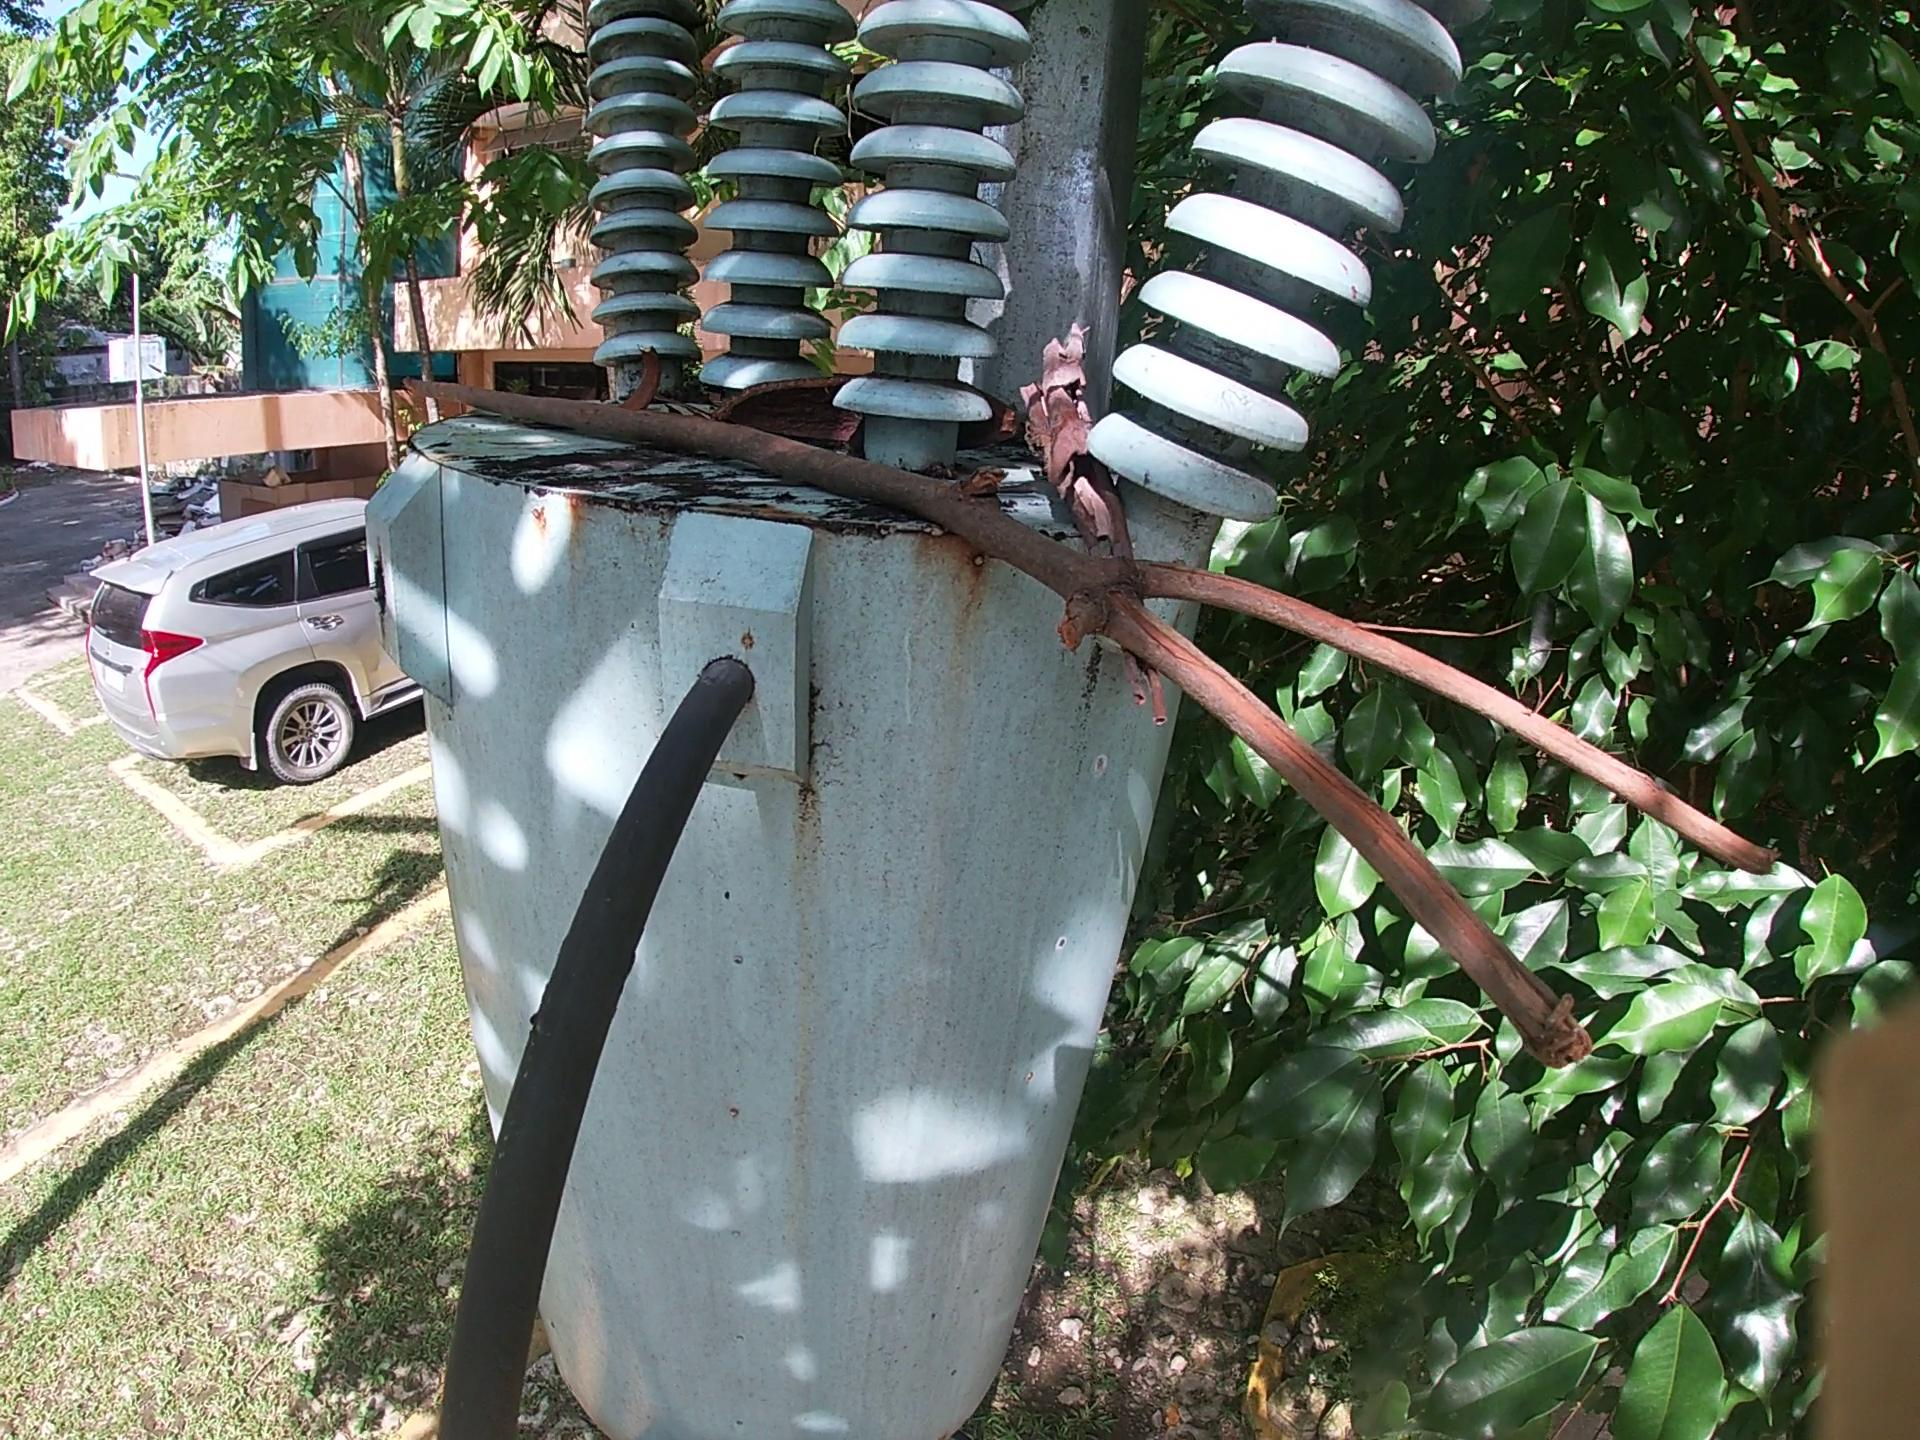mahogany fruit: (700, 375, 865, 455), (599, 351, 671, 405), (963, 389, 1027, 439)
tree branch: (408, 380, 1810, 1100), (1017, 331, 1219, 764)
